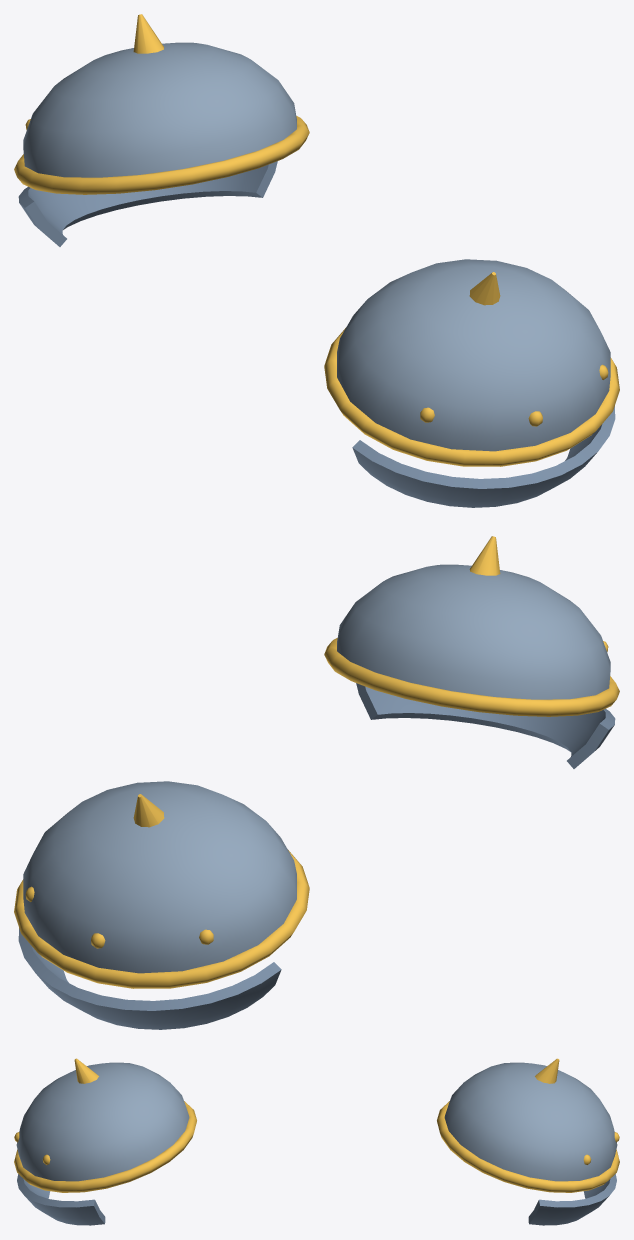
The model's file is detail_shoulder_pads.glb.
The picture shows the model from 3 angles, top to bottom: view 1: azimuth 30°, elevation 25°; view 2: azimuth 150°, elevation 25°; view 3: azimuth 270°, elevation 25°; orthographic projection. The views are drawn at different scales.
Parts seen in each view (by area): view 1: detail_shoulder_pads; view 2: detail_shoulder_pads; view 3: detail_shoulder_pads.
Boxes of the visible parts, left/top/right/bottom form: detail_shoulder_pads: left=14, top=14, right=619, bottom=507; detail_shoulder_pads: left=14, top=536, right=619, bottom=1029; detail_shoulder_pads: left=14, top=1058, right=619, bottom=1225.
Size of the model in its own units: 0.5896 by 0.4555 by 1.72.
